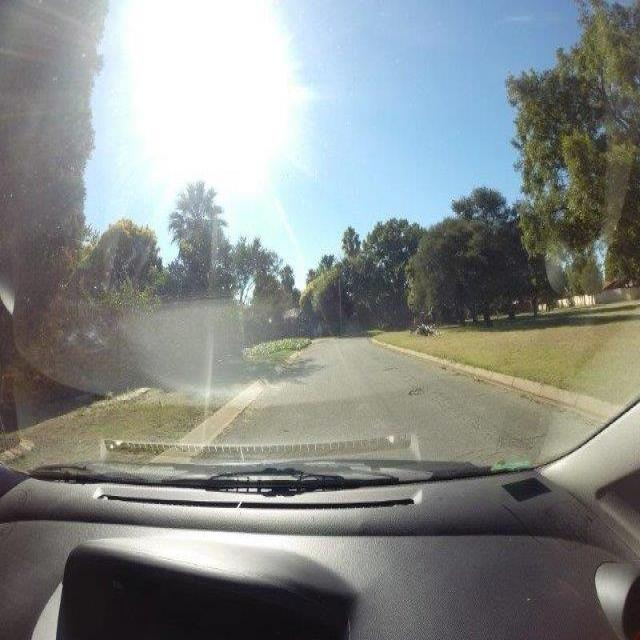jalan retak: (428, 391, 548, 455)
lubang: (405, 384, 433, 396)
